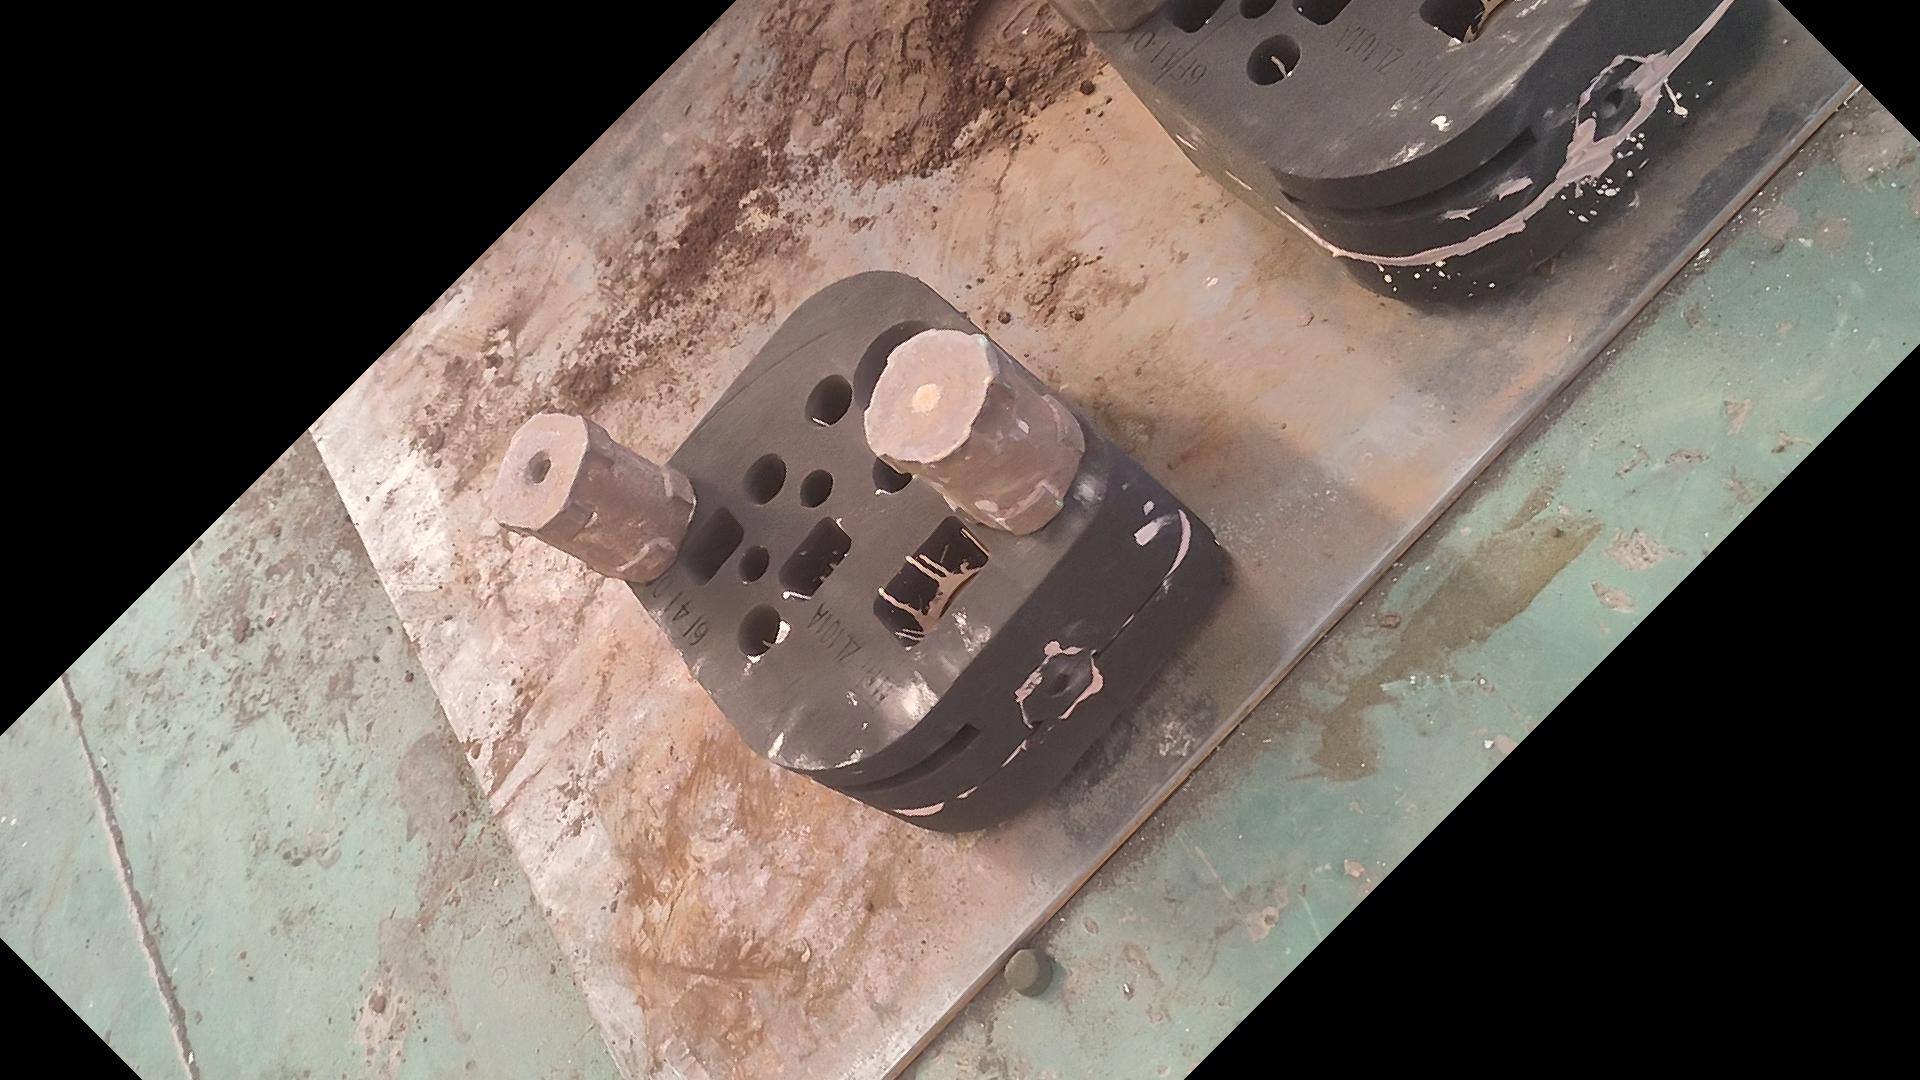pouring hole: (852, 320, 945, 414)
